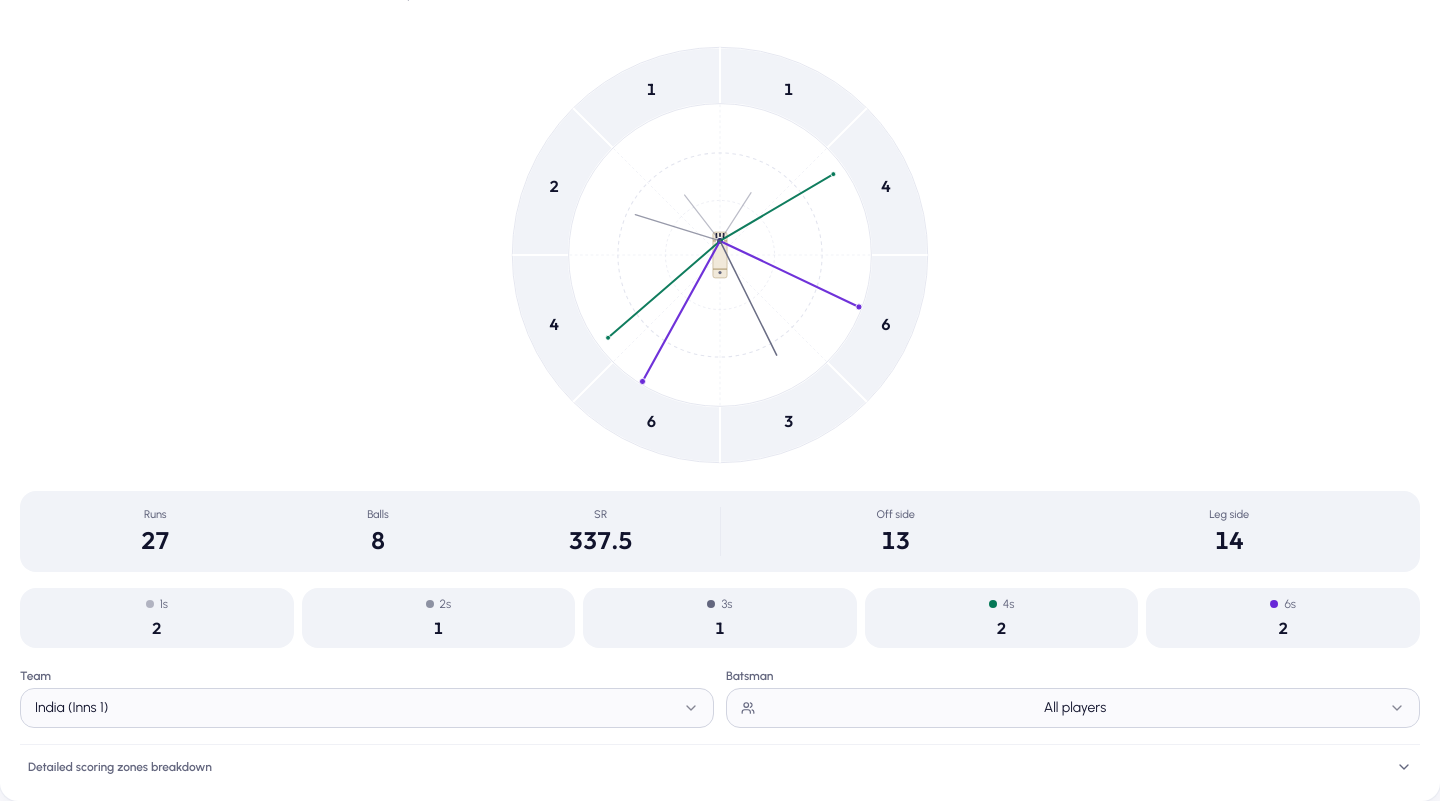
Test: WagonWheel Component (Stumps App Design) › renders expandable detailed zone breakdown
The width and height of the screenshot is (1440, 801).
(page scrolled)
Click to expand
Click the button "Detailed scoring zones breakdown" at (120, 766), box 20,752 -> 1420,780
(page scrolled)
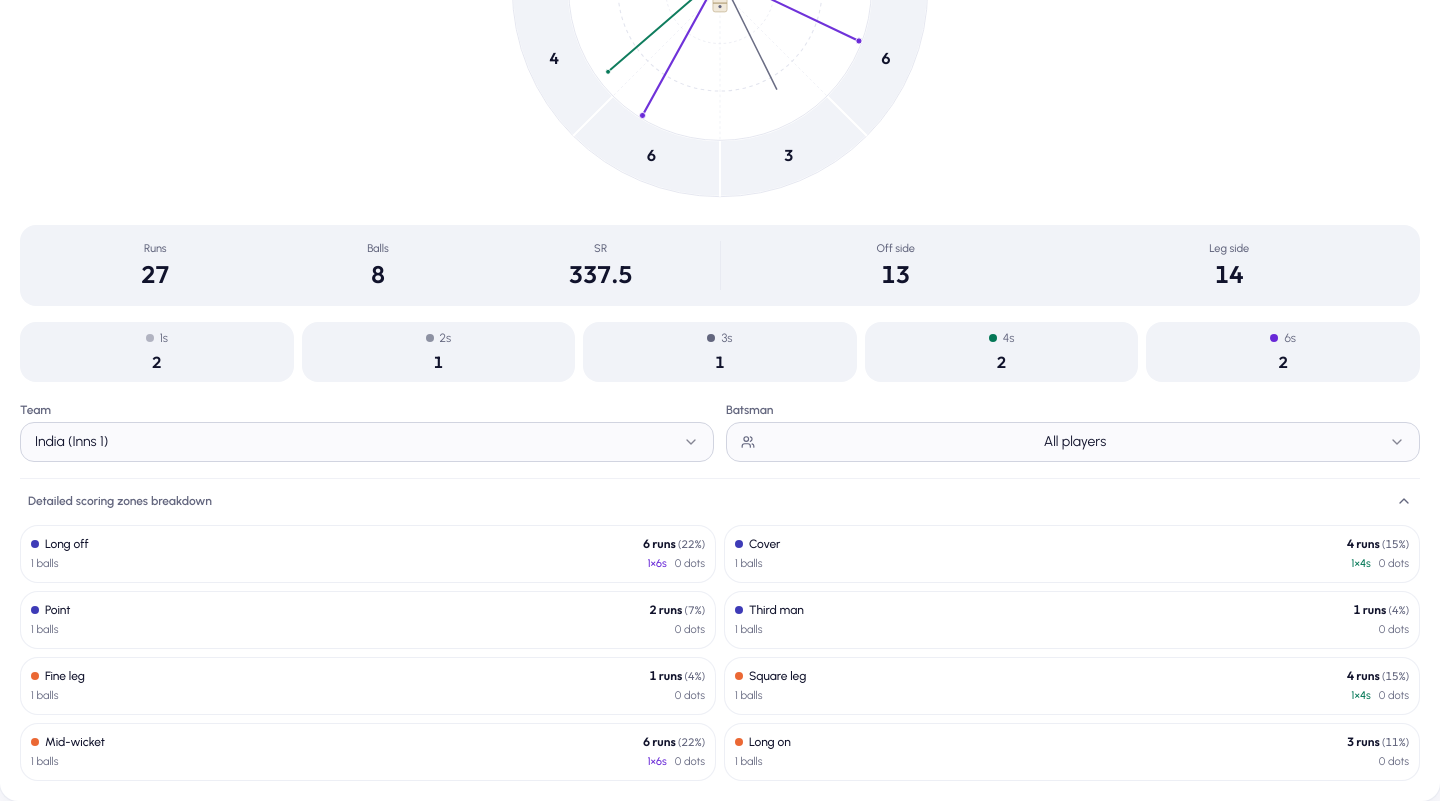
Result: the text "Cover" is shown at 735,536 -> 780,552
Result: the text "Mid-wicket" is shown at 31,734 -> 105,750
Result: the text "Square leg" is shown at 735,668 -> 806,684
